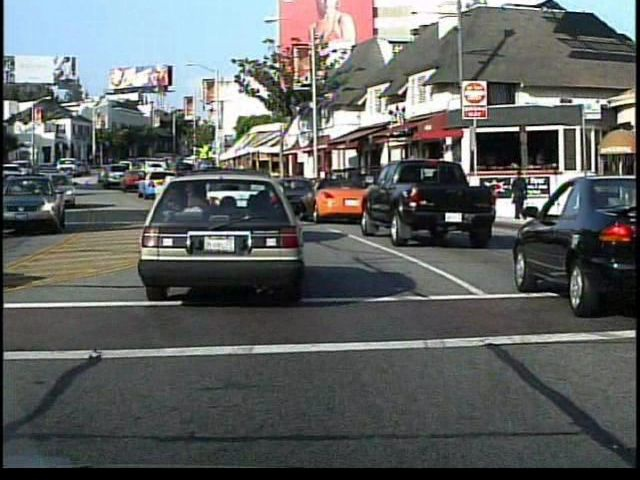person: (511, 167, 532, 227)
